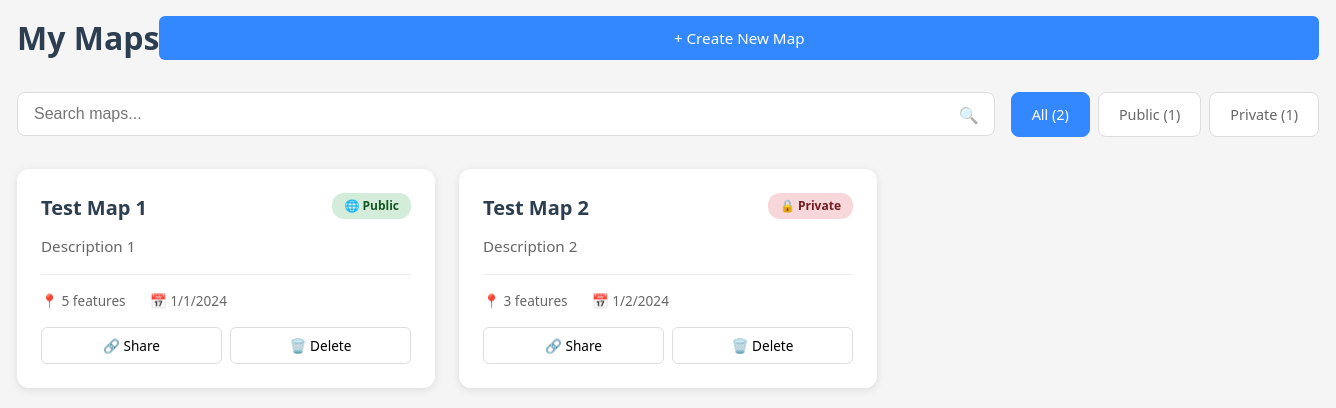
Test case: MapGallery Component › filters maps by visibility
Click the button "Public (1)".
click(1150, 114)  # box 1098,92 -> 1201,137
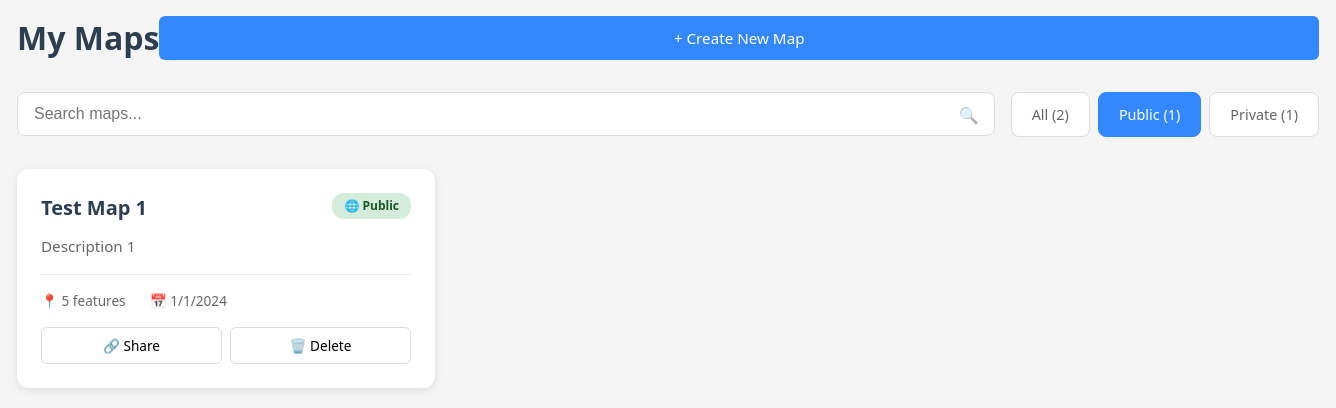
Expected: the heading "Test Map 1" is shown, 41,194 -> 147,221
Expected: the heading "Test Map 2" is gone
